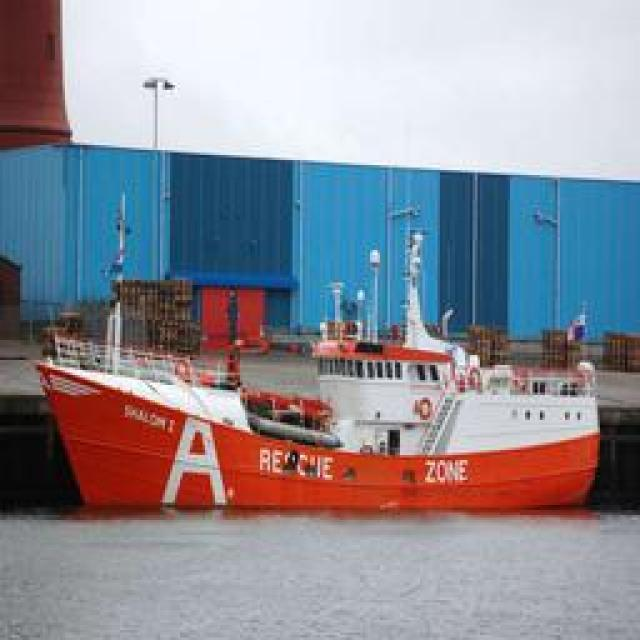ship2: (35, 192, 601, 516)
